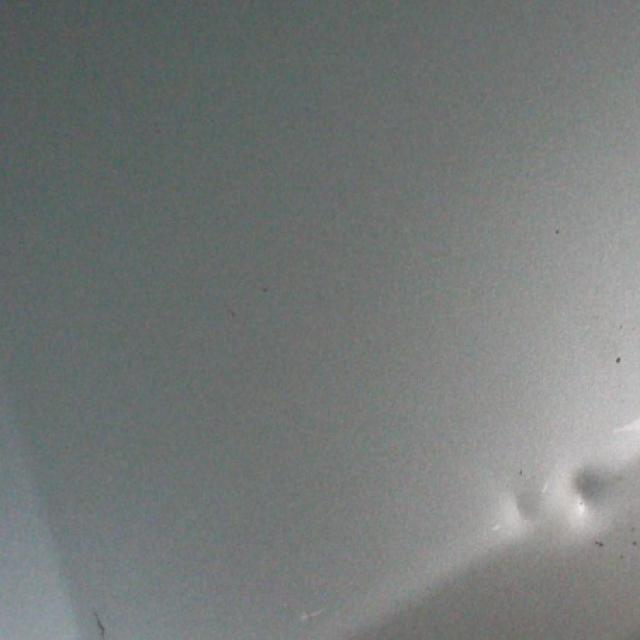dents: (564, 452, 624, 556), (493, 473, 557, 550)
